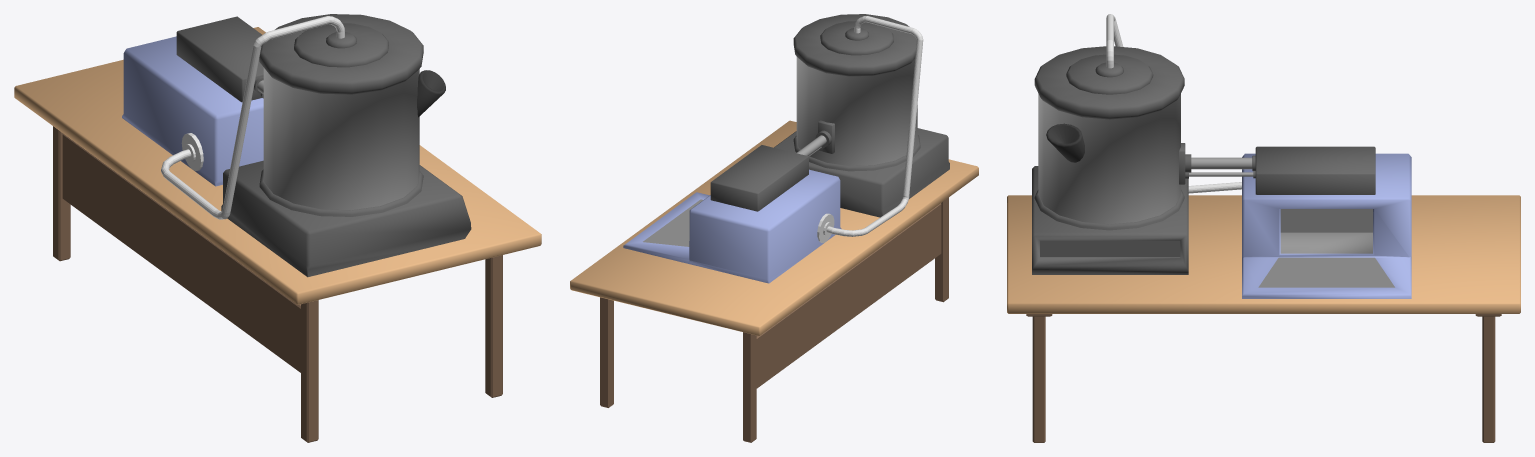
File: Squashor.fbx
The picture shows the model from 3 angles, left to right: view 1: azimuth 30°, elevation 25°; view 2: azimuth 150°, elevation 25°; view 3: azimuth 270°, elevation 25°; orthographic projection. The views are drawn at different scales.
Visible parts, largest first — view 1: Cube, Cylinder; view 2: Cube, Cylinder; view 3: Cube, Cylinder.
Part boxes in pixels (left/top/right/bottom): Cube: left=14, top=14, right=541, bottom=442; Cylinder: left=161, top=16, right=344, bottom=219; Cube: left=570, top=14, right=978, bottom=442; Cylinder: left=817, top=16, right=923, bottom=242; Cube: left=1007, top=46, right=1520, bottom=442; Cylinder: left=1106, top=14, right=1241, bottom=193.
Size of the model in its own units: 200 by 296 by 400.
